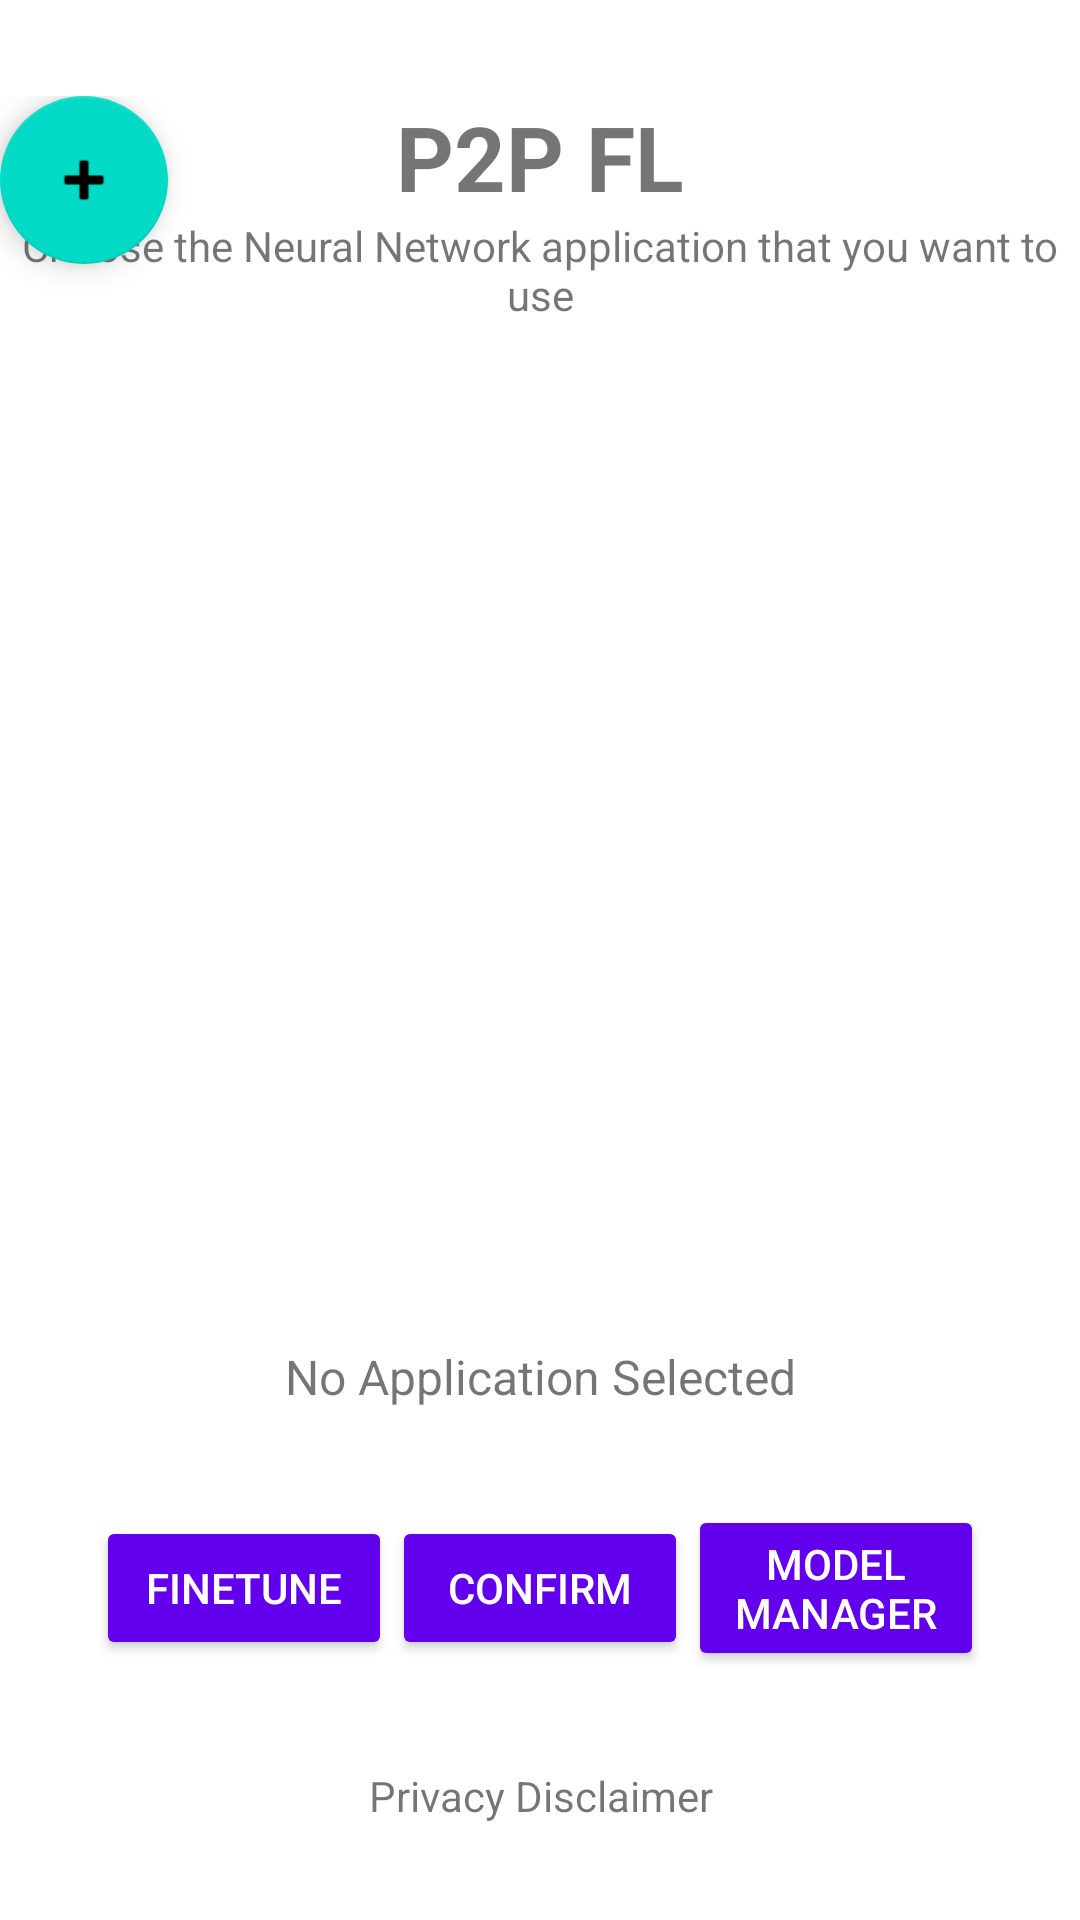

Screen size 1080 × 1920. Icon name, then its box in pixels as (x1, y1, x2, y2):
Floating Action Button: (0, 96, 168, 264)
